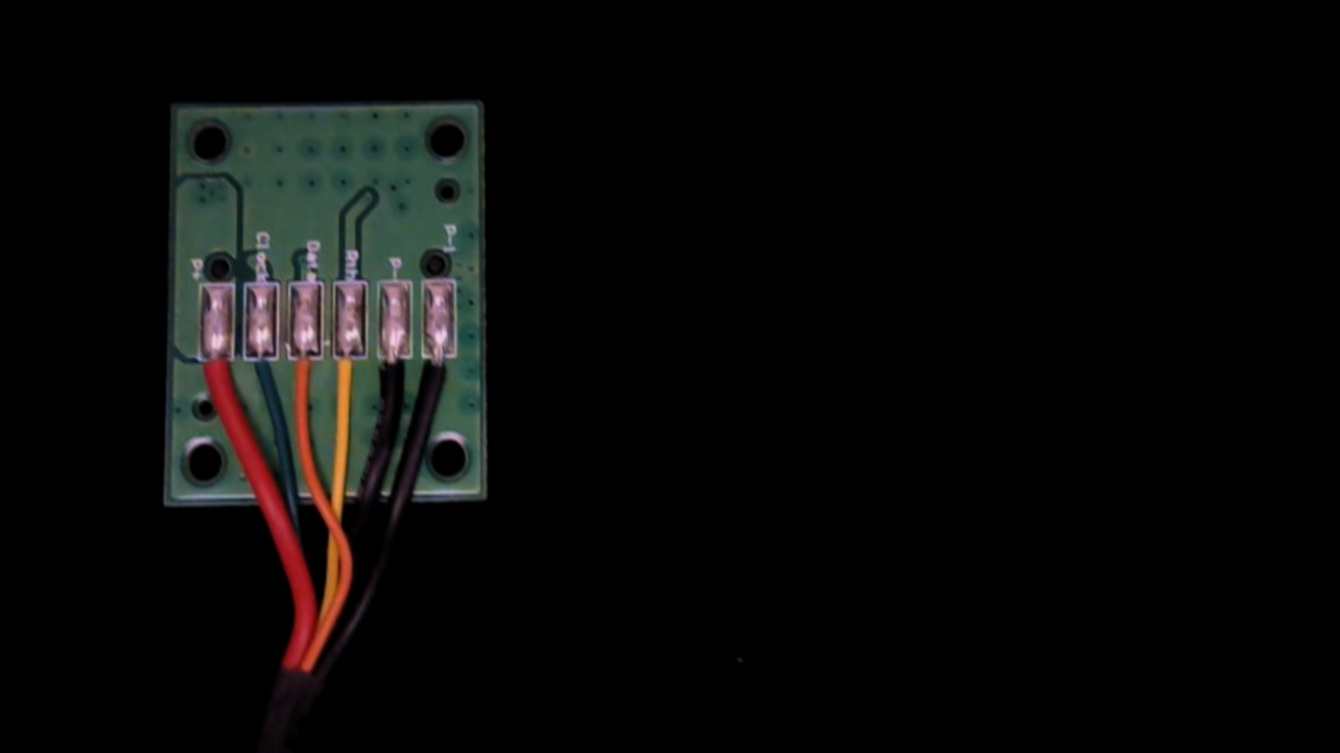Black: (374, 341, 406, 417)
Black1: (420, 341, 455, 412)
Green: (241, 342, 280, 407)
Orange: (287, 341, 322, 412)
Red: (194, 344, 233, 414)
Yellow: (329, 341, 366, 418)
